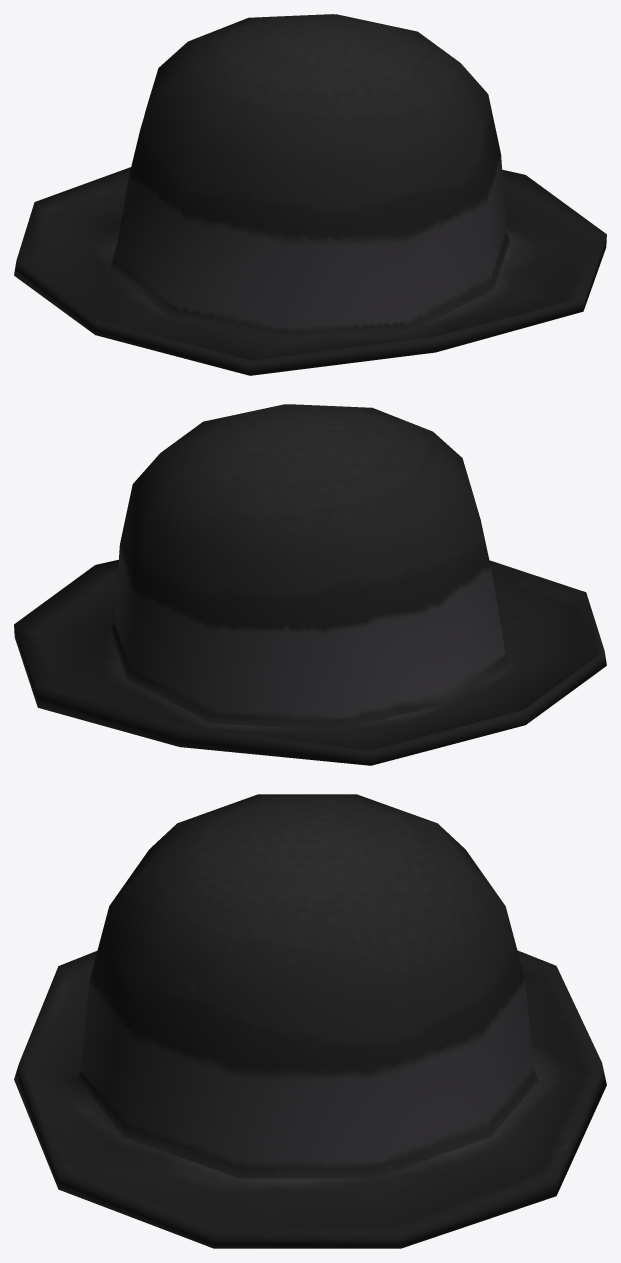
File: bowlerHat.glb
3 views of the same model, one above another, from view 1: azimuth 30°, elevation 25°; view 2: azimuth 150°, elevation 25°; view 3: azimuth 270°, elevation 25° (orthographic). The views are drawn at different scales.
Parts seen in each view (by area): view 1: Hat_bowlerHat; view 2: Hat_bowlerHat; view 3: Hat_bowlerHat.
Boxes of the visible parts, bbox=[...] form: Hat_bowlerHat: bbox=[14, 14, 606, 375]; Hat_bowlerHat: bbox=[14, 404, 606, 765]; Hat_bowlerHat: bbox=[14, 794, 606, 1248].
Bounding box in the file's own units: 0.6862 × 0.3031 × 0.5986.
1 material, 1 textured.
